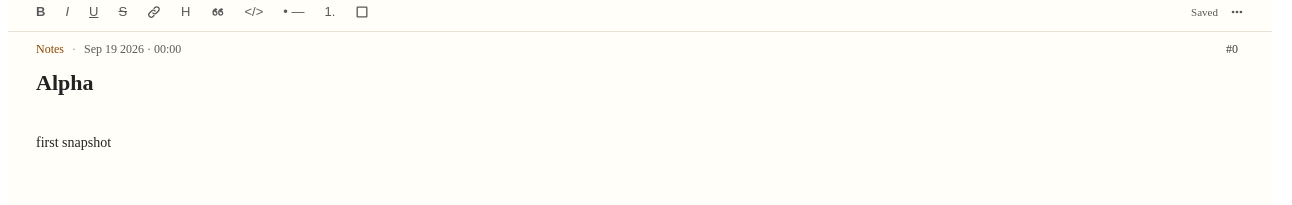
Test case: preserves the newer closed draft if its queued save fails after an older save rekeys
(page scrolled)
Clear the field with class "editor-body" at [74, 142], box [36,135,111,150]
Wait 1500 ms
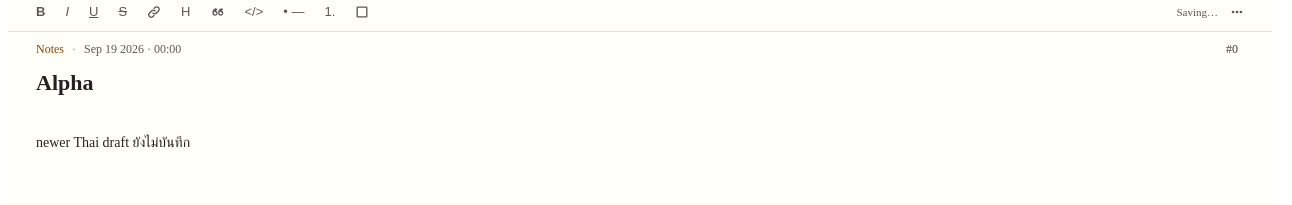
Clear the field with class "editor-body" at [113, 142], box [36,135,190,150]
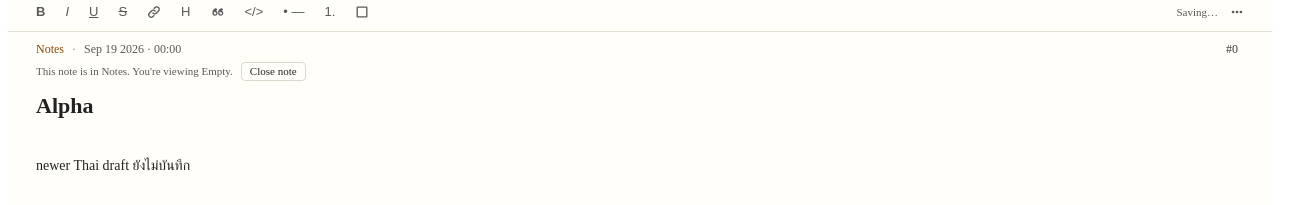
Click the button "Close note".
click(273, 71)  # box [241,62,306,80]
(page scrolled)
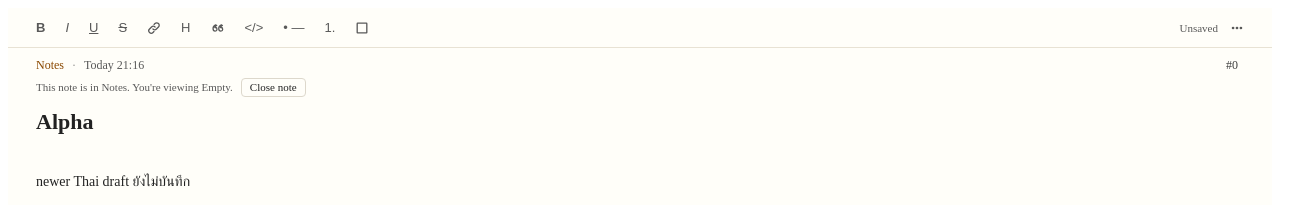
Now the field with class "editor-body" reads "newer Thai draft ยังไม่บันทึก", box [36,174,190,188]
Now the message with class "save-status" reads "Unsaved", box [1180,22,1218,34]
